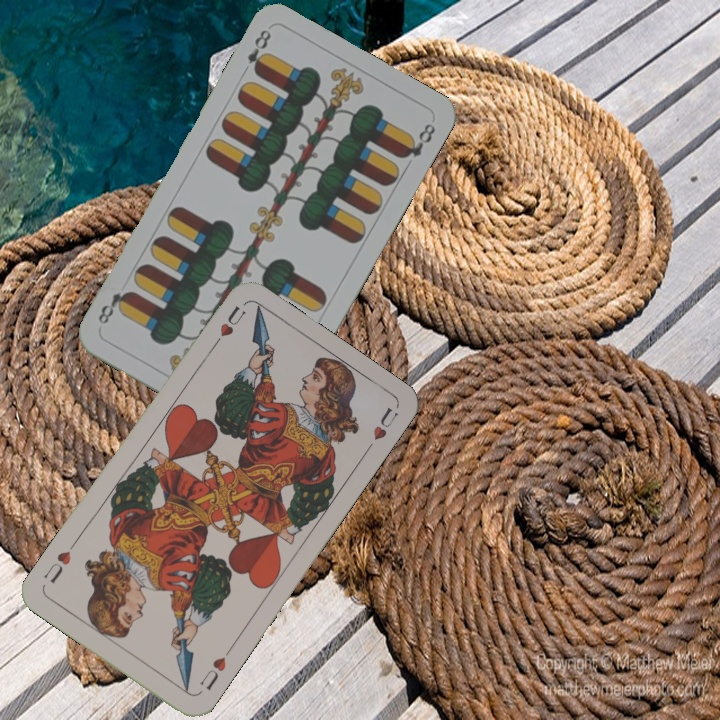E8: (243, 25, 274, 78)
HU: (207, 302, 249, 352), (195, 652, 229, 693)
